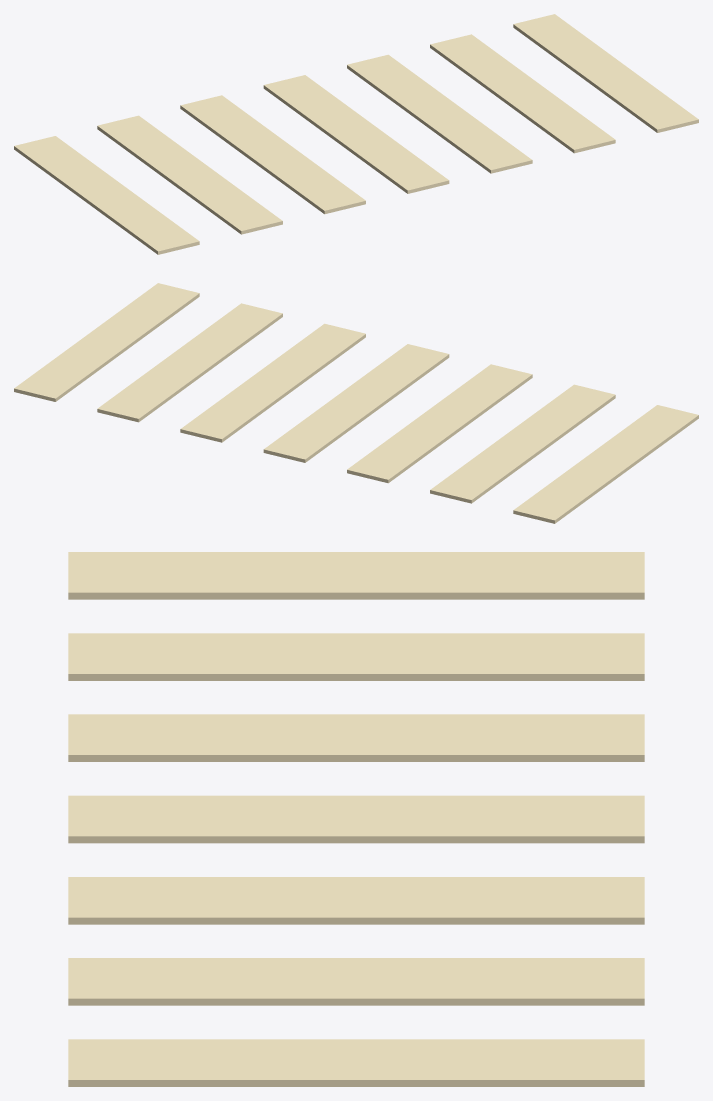
The model's file is crossing.glb.
3 views of the same model, one above another, from view 1: azimuth 30°, elevation 25°; view 2: azimuth 150°, elevation 25°; view 3: azimuth 270°, elevation 25° (orthographic). The views are drawn at different scales.
Parts seen in each view (by area): view 1: _MeshInstance3D_86, _MeshInstance3D_85, _MeshInstance3D_87, _MeshInstance3D_84, _MeshInstance3D_88, _MeshInstance3D_83, _MeshInstance3D_89; view 2: _MeshInstance3D_86, _MeshInstance3D_85, _MeshInstance3D_87, _MeshInstance3D_84, _MeshInstance3D_88, _MeshInstance3D_83, _MeshInstance3D_89; view 3: _MeshInstance3D_86, _MeshInstance3D_83, _MeshInstance3D_84, _MeshInstance3D_85, _MeshInstance3D_87, _MeshInstance3D_88, _MeshInstance3D_89.
Boxes of the visible parts, x1,y1,x2,y2 form: _MeshInstance3D_86: [263, 75, 449, 193]; _MeshInstance3D_85: [180, 95, 365, 214]; _MeshInstance3D_87: [347, 54, 532, 173]; _MeshInstance3D_84: [97, 115, 282, 234]; _MeshInstance3D_88: [430, 34, 615, 153]; _MeshInstance3D_83: [14, 136, 199, 254]; _MeshInstance3D_89: [513, 14, 698, 132]; _MeshInstance3D_86: [263, 344, 449, 462]; _MeshInstance3D_85: [347, 364, 532, 483]; _MeshInstance3D_87: [180, 323, 365, 442]; _MeshInstance3D_84: [430, 384, 615, 503]; _MeshInstance3D_88: [97, 303, 282, 422]; _MeshInstance3D_83: [513, 405, 698, 523]; _MeshInstance3D_89: [14, 283, 199, 401]; _MeshInstance3D_86: [68, 795, 644, 843]; _MeshInstance3D_83: [68, 552, 644, 599]; _MeshInstance3D_84: [68, 633, 644, 680]; _MeshInstance3D_85: [68, 714, 644, 761]; _MeshInstance3D_87: [68, 877, 644, 924]; _MeshInstance3D_88: [68, 958, 644, 1005]; _MeshInstance3D_89: [68, 1039, 644, 1086].
Bounding box in the file's own units: 6.5 × 0.04 × 3.
